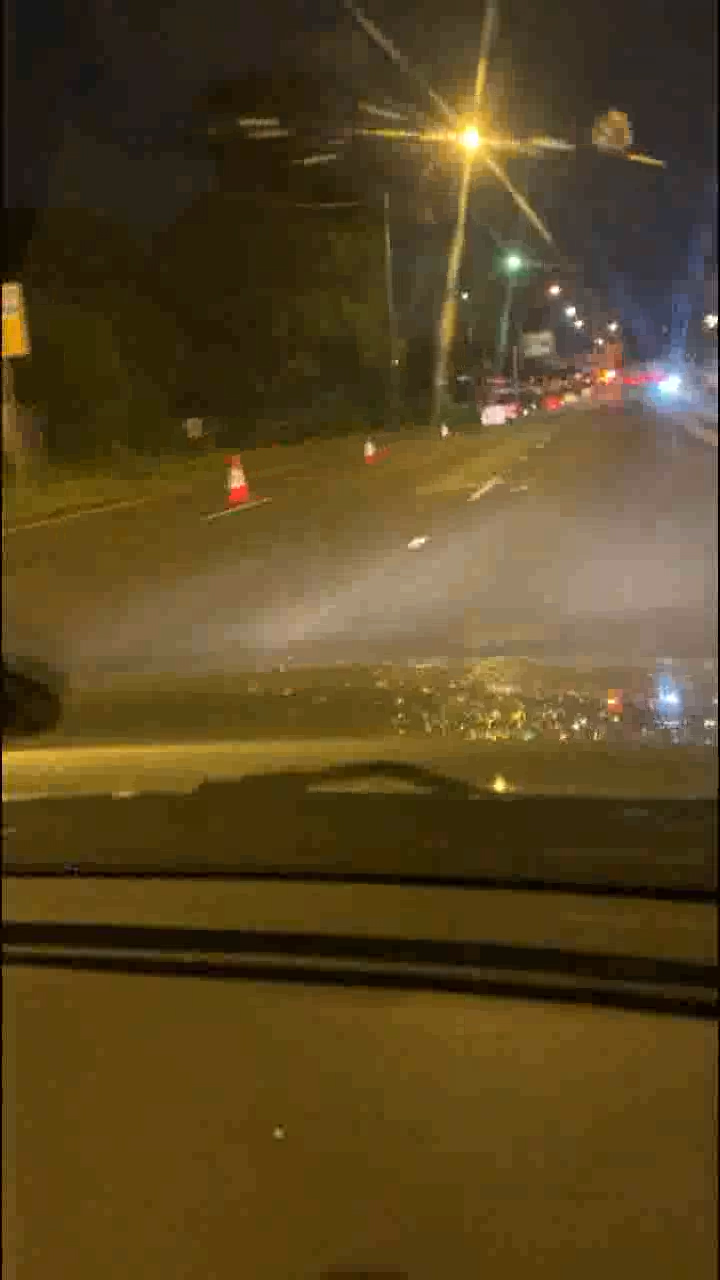road cone: (218, 459, 250, 504), (364, 442, 383, 465)
